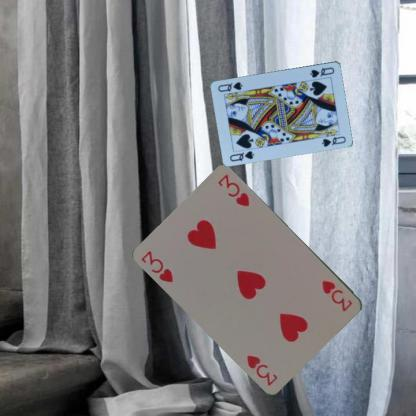3h: (139, 248, 175, 284), (318, 278, 354, 312)
Qs: (307, 64, 336, 78), (227, 148, 255, 162)
